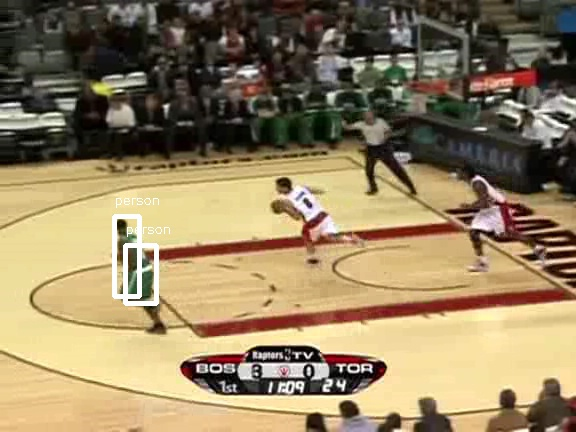person: (122, 226, 156, 307), (121, 226, 155, 307), (123, 226, 157, 307), (122, 225, 156, 306), (122, 227, 156, 308)
target_negative: (6, 246, 344, 404), (50, 328, 440, 363), (348, 330, 480, 403), (194, 424, 495, 428), (538, 324, 555, 393), (111, 427, 134, 430)
